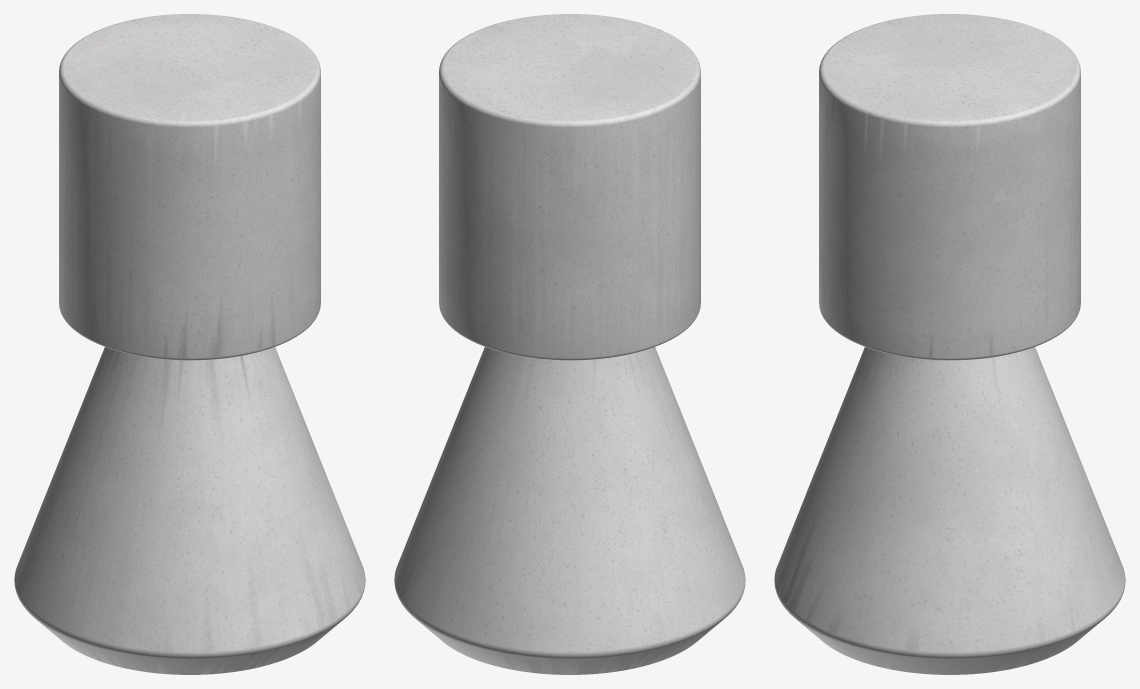
File: knight-white-hd.glb
3 renders of one model, left to right at view 1: azimuth 30°, elevation 25°; view 2: azimuth 150°, elevation 25°; view 3: azimuth 270°, elevation 25°, orthographic.
Visible parts, largest first — view 1: 05_jezdec_bila; view 2: 05_jezdec_bila; view 3: 05_jezdec_bila.
Boxes of the visible parts, bbox=[...] form: 05_jezdec_bila: bbox=[14, 14, 365, 674]; 05_jezdec_bila: bbox=[394, 14, 745, 674]; 05_jezdec_bila: bbox=[774, 14, 1125, 674].
Bounding box in the file's own units: 0.7666 × 1.32 × 0.7666.
1 material, 1 textured.
